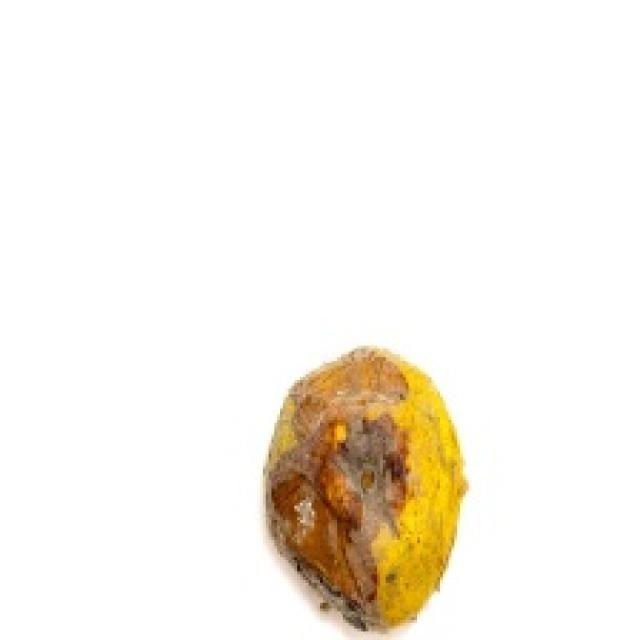rotten_apple: (268, 349, 461, 632)
